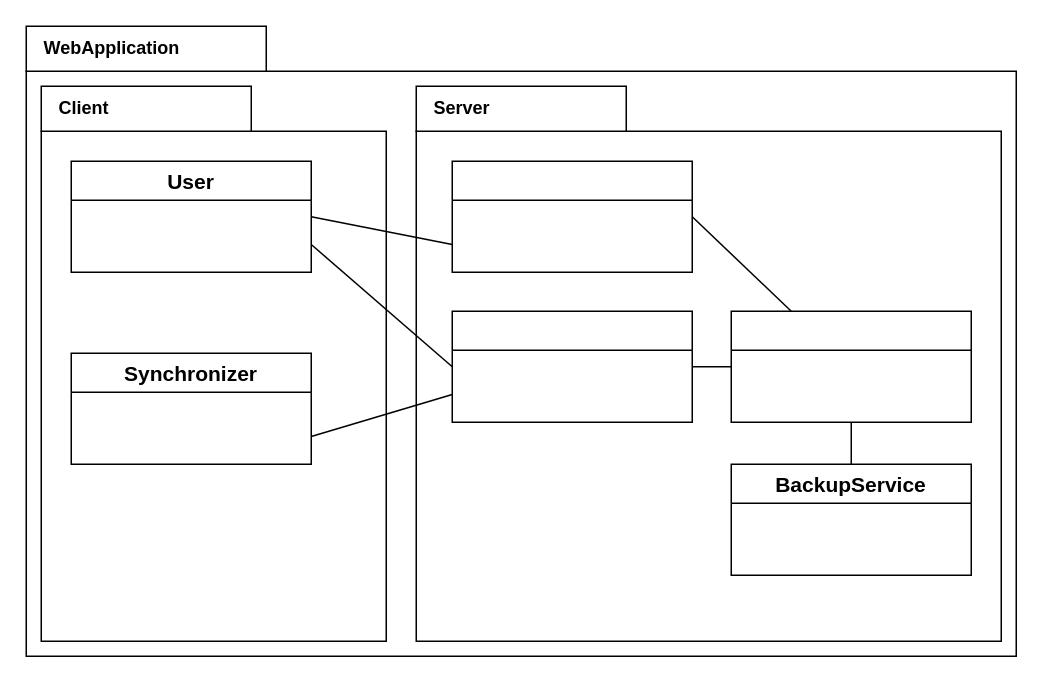
Some shapes in this 1043 by 683 pixel diagram are drawn without their labels. The shapes that lost their labels are listed below. From the top down, each one's centre as x and y in pixels, then its label:
the point at 571,216: AuthenticationService
the point at 571,366: ContentManager
the point at 850,366: PersistenceManager
